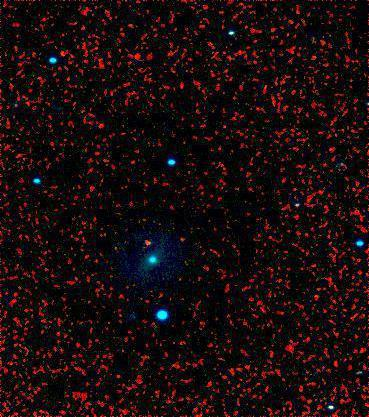star: (133, 227, 163, 257)
